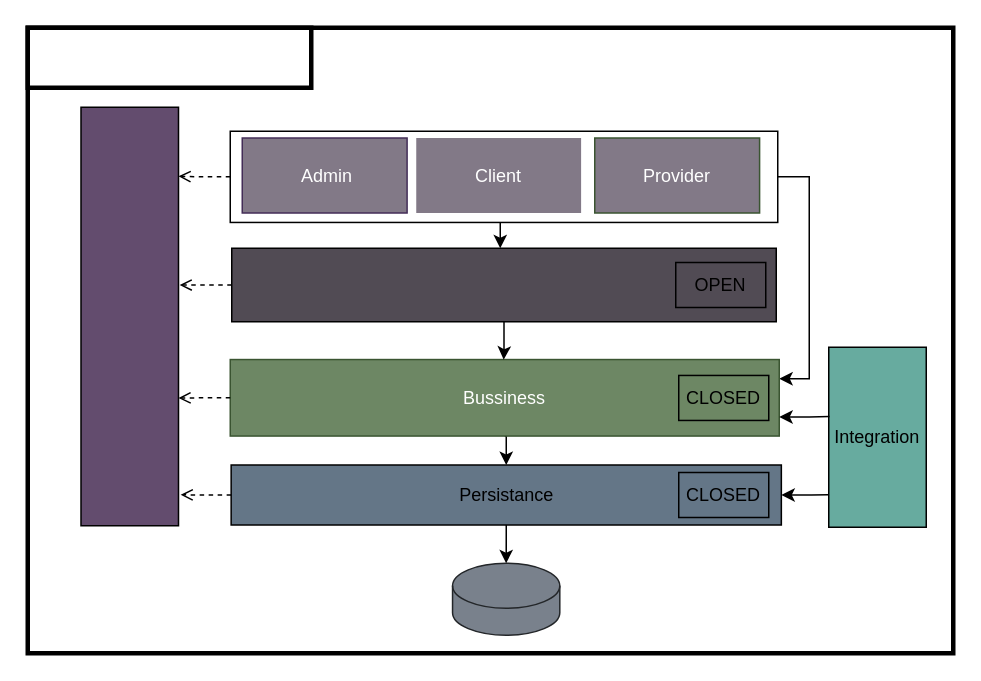
Image size: 981x681. Some labels were removed from this diagram. Each missing label, with the box of its shape:
Commons: (80, 106, 178, 526)
Layered Architecure: (25, 25, 313, 89)
Presentation: (230, 247, 776, 322)
SQLITE: (451, 562, 560, 635)
